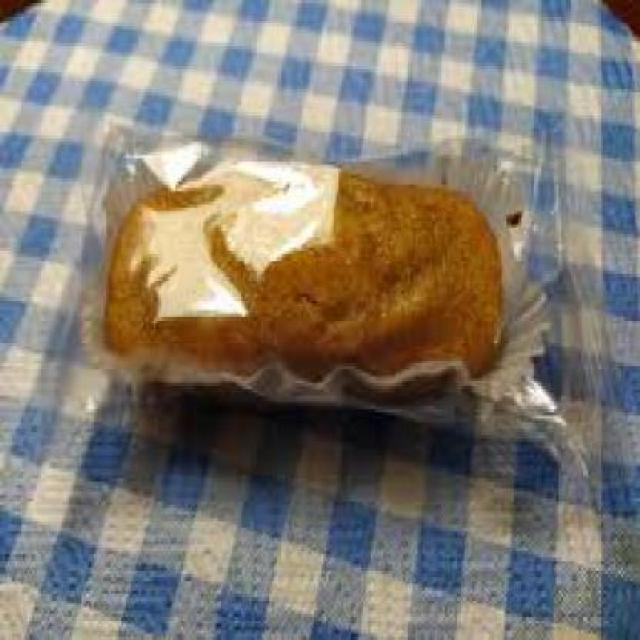Merendine packaged: (82, 122, 550, 446)
